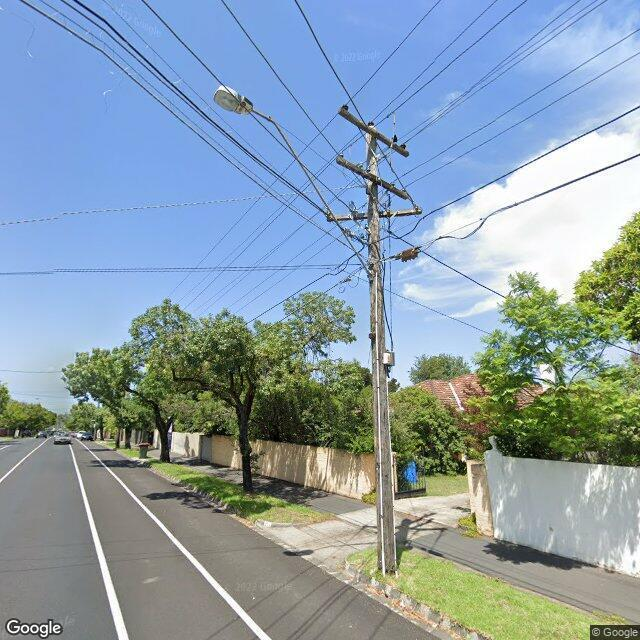HV-transmission: (342, 104, 406, 150)
crossarm: (339, 107, 409, 157), (336, 156, 408, 200), (326, 207, 422, 222)
streetlight: (213, 86, 374, 282)
timber-pole: (365, 126, 396, 575)
